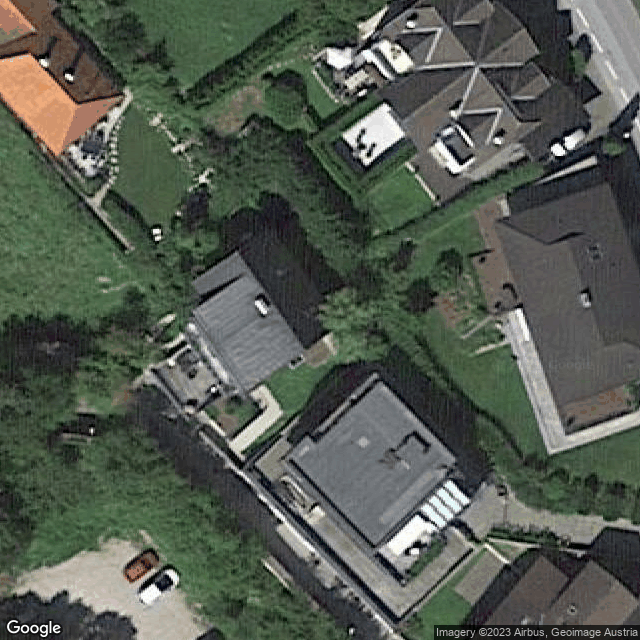dormer: (457, 110, 501, 151), (396, 29, 440, 66), (510, 63, 551, 98), (453, 1, 496, 26)
hip: (513, 123, 544, 147), (409, 1, 434, 10)
obstacles: (252, 297, 273, 318), (578, 293, 593, 310), (355, 434, 370, 450), (39, 57, 53, 71), (448, 109, 462, 121), (64, 72, 76, 85), (492, 136, 506, 147), (520, 615, 532, 626), (406, 21, 416, 31)
ridge: (401, 30, 522, 119), (434, 10, 519, 123), (237, 252, 303, 350), (567, 240, 605, 348), (30, 55, 78, 107), (581, 583, 616, 626), (8, 1, 35, 30)
roof: (374, 1, 577, 178), (493, 184, 640, 405), (282, 381, 458, 558), (190, 228, 342, 393), (1, 1, 126, 155), (481, 554, 640, 627)
valley: (559, 348, 605, 405), (568, 185, 606, 241), (499, 224, 549, 249), (476, 3, 493, 64), (57, 106, 78, 154), (30, 18, 56, 55), (459, 67, 477, 114), (78, 96, 126, 106), (411, 64, 475, 69), (624, 344, 639, 354), (1, 55, 30, 60), (477, 64, 525, 67)
